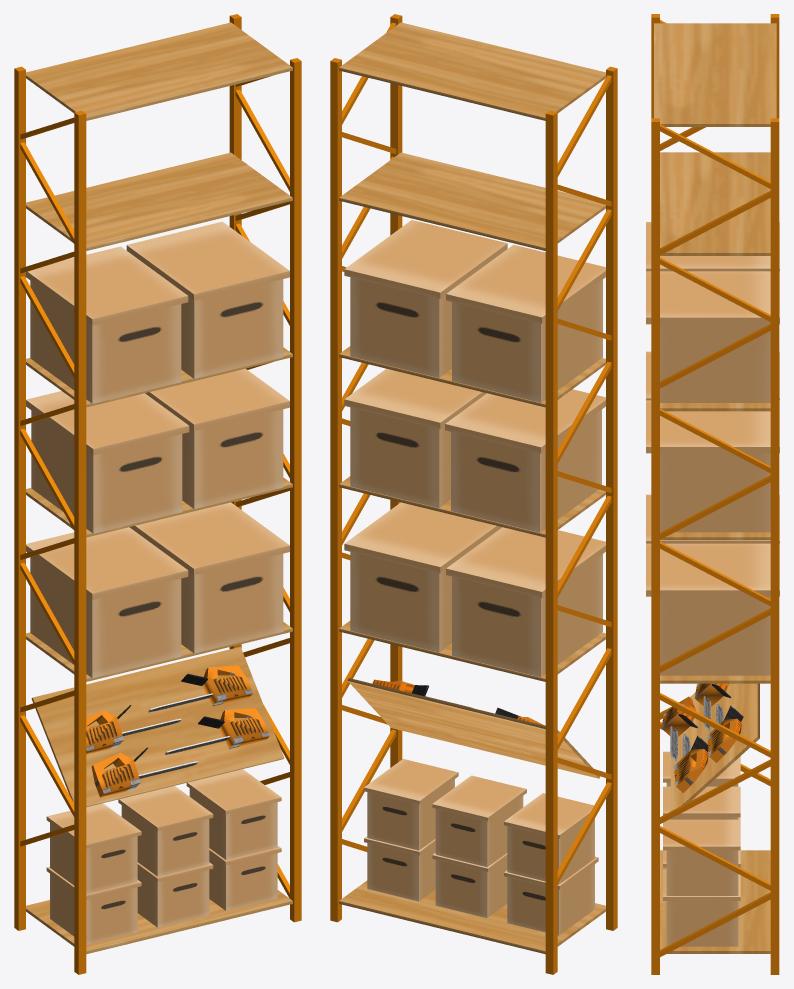
File: Hedge_Trimmer_Rack.fbx
3 views of the same model, side by side, from view 1: azimuth 30°, elevation 25°; view 2: azimuth 150°, elevation 25°; view 3: azimuth 270°, elevation 25° (orthographic).
Parts seen in each view (by area): view 1: Hedge_Trimmer_Rack; view 2: Hedge_Trimmer_Rack; view 3: Hedge_Trimmer_Rack.
Boxes of the visible parts, left/top/right/bottom form: Hedge_Trimmer_Rack: left=14, top=14, right=301, bottom=974; Hedge_Trimmer_Rack: left=330, top=14, right=617, bottom=974; Hedge_Trimmer_Rack: left=646, top=14, right=779, bottom=974.
Bounding box in the file's own units: 2 × 7.37 × 1.05.
